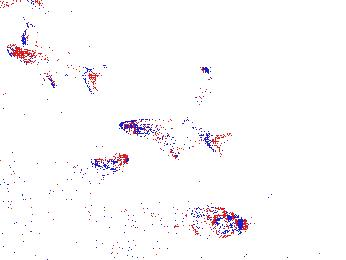X-ray fish: (173, 205, 247, 240)
red belly glassfish: (82, 155, 130, 175)
redtail glassfish: (4, 43, 107, 96), (117, 117, 234, 157)
